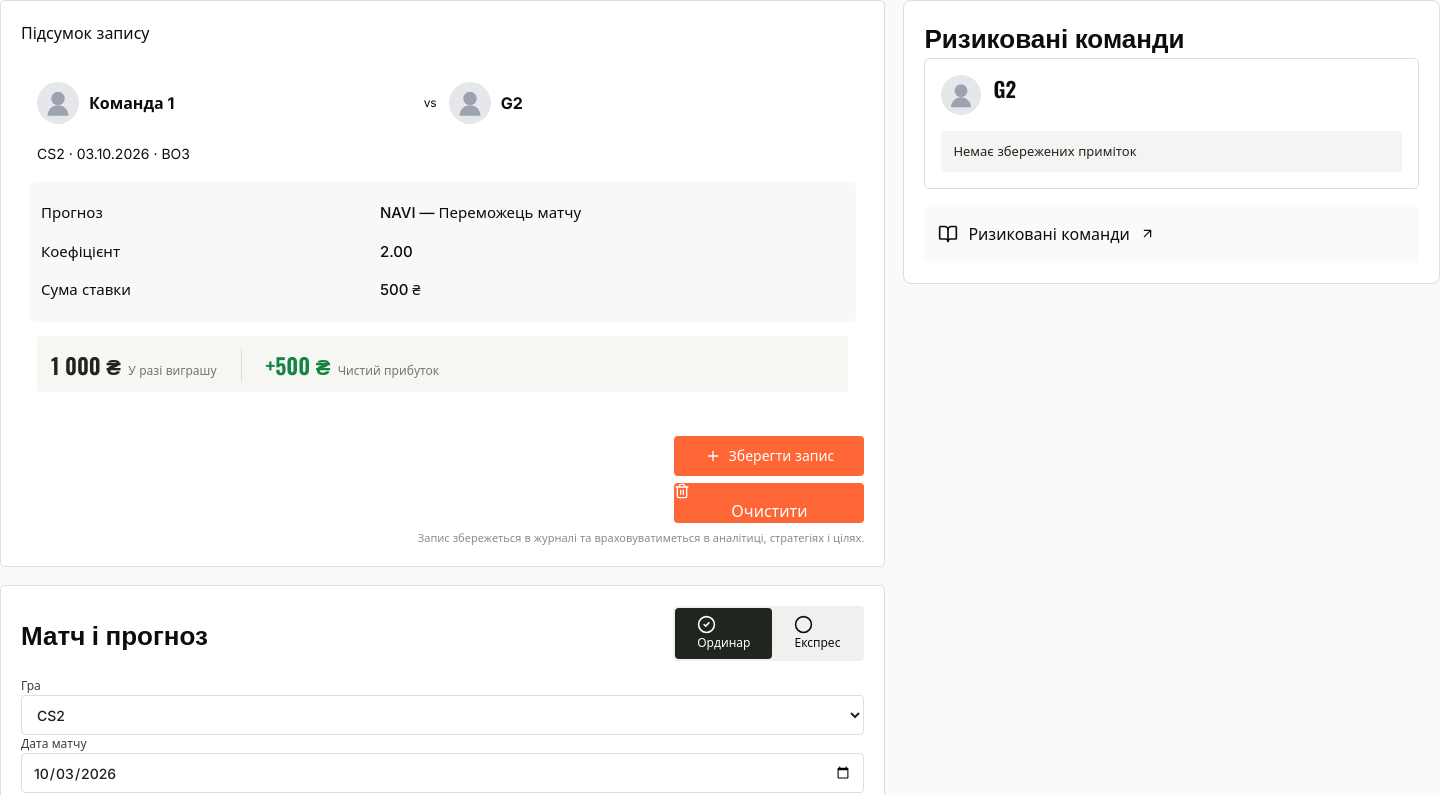
Single-page record entry › blocks incomplete match
Click the button "Зберегти запис". click: (769, 456)
box: x1=674 y1=436 x2=864 y2=476
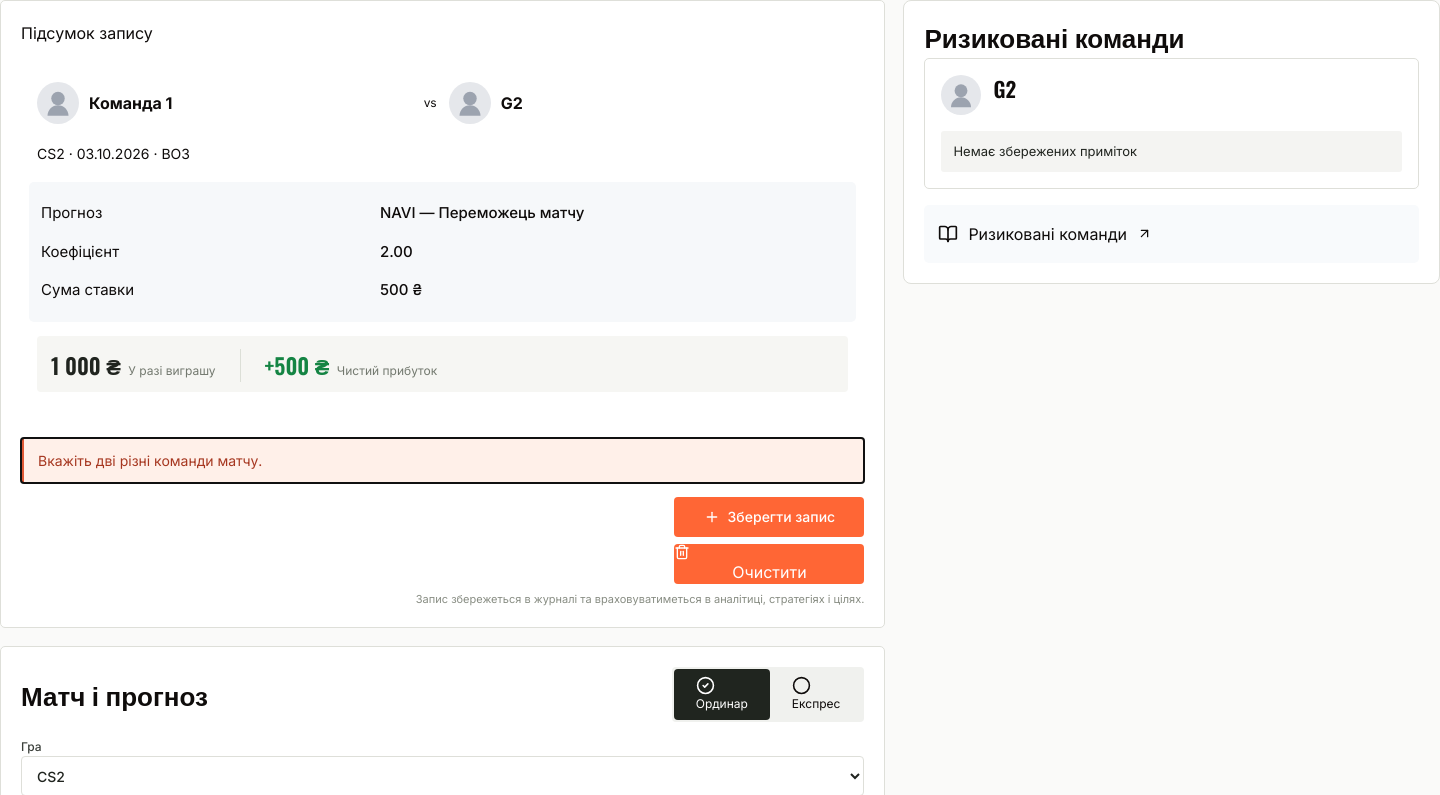
Result: the message shows "дві різні команди" at x1=38 y1=452 x2=262 y2=468
